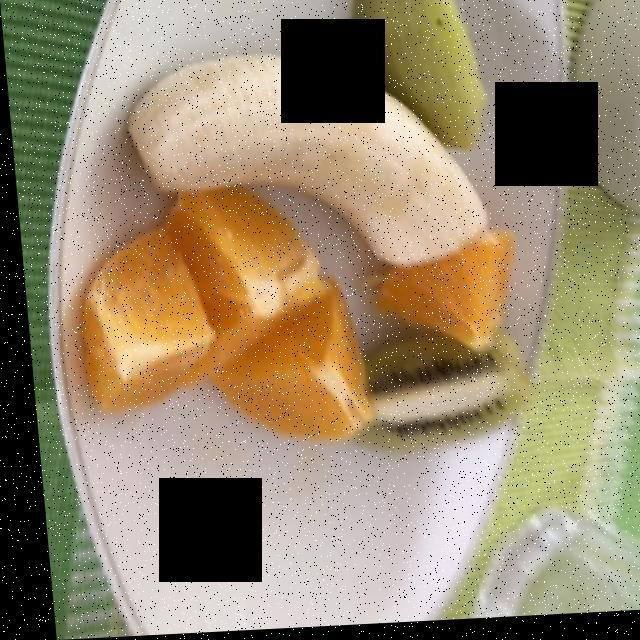banana: (122, 69, 488, 267)
kiwi: (356, 0, 535, 445)
orange: (74, 188, 504, 440)
